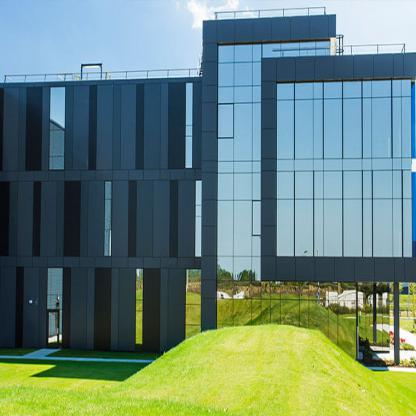window: (52, 91, 62, 165), (376, 102, 389, 155), (346, 203, 360, 252), (347, 102, 359, 152), (236, 204, 248, 253), (298, 105, 309, 156), (238, 107, 249, 157), (377, 204, 388, 252), (328, 103, 338, 155), (328, 204, 338, 254), (280, 105, 290, 154), (300, 204, 310, 252), (280, 204, 290, 250), (219, 108, 230, 134), (327, 175, 340, 194), (298, 175, 310, 194), (377, 175, 389, 194), (236, 178, 249, 195), (347, 176, 358, 195), (221, 66, 232, 83), (280, 177, 290, 195), (346, 83, 357, 94), (375, 85, 387, 94), (299, 86, 309, 96), (327, 87, 338, 95), (280, 87, 289, 96)
